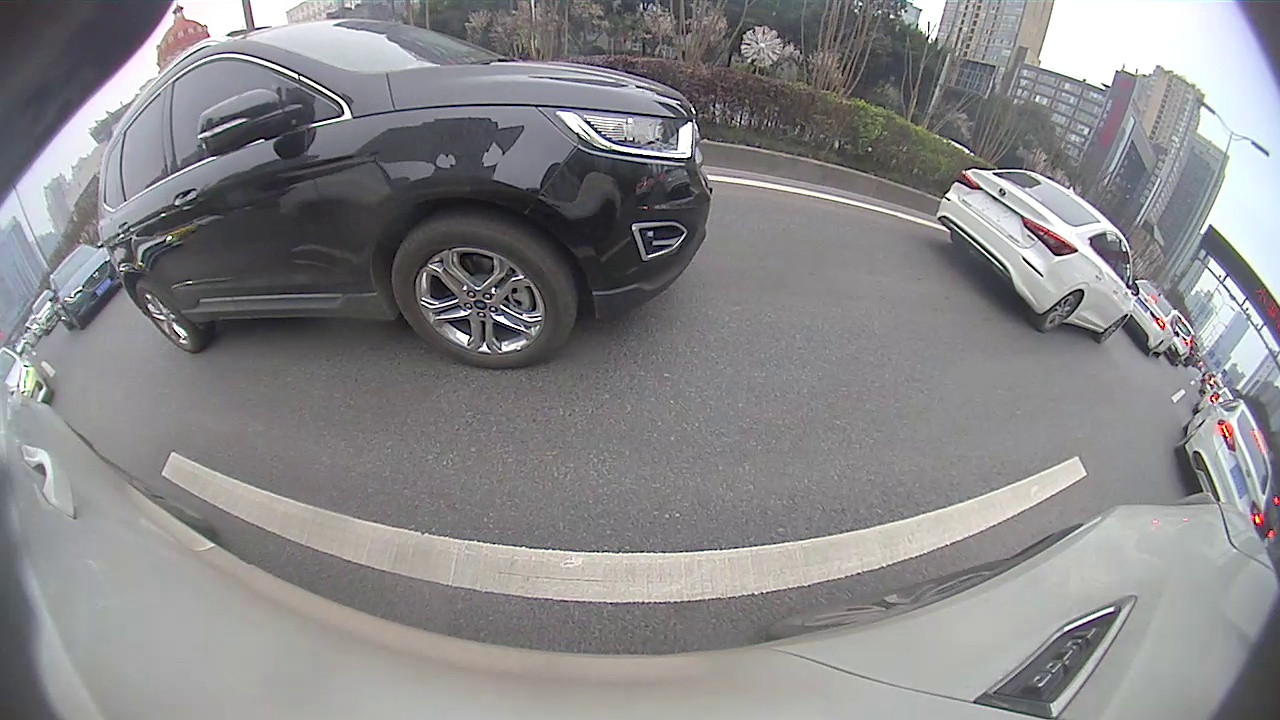car: (96, 17, 714, 371), (935, 167, 1138, 346), (1175, 393, 1275, 523), (48, 241, 124, 332)
front: (390, 214, 577, 371), (1097, 315, 1126, 344)
rear: (136, 283, 201, 356), (1037, 290, 1085, 333)
